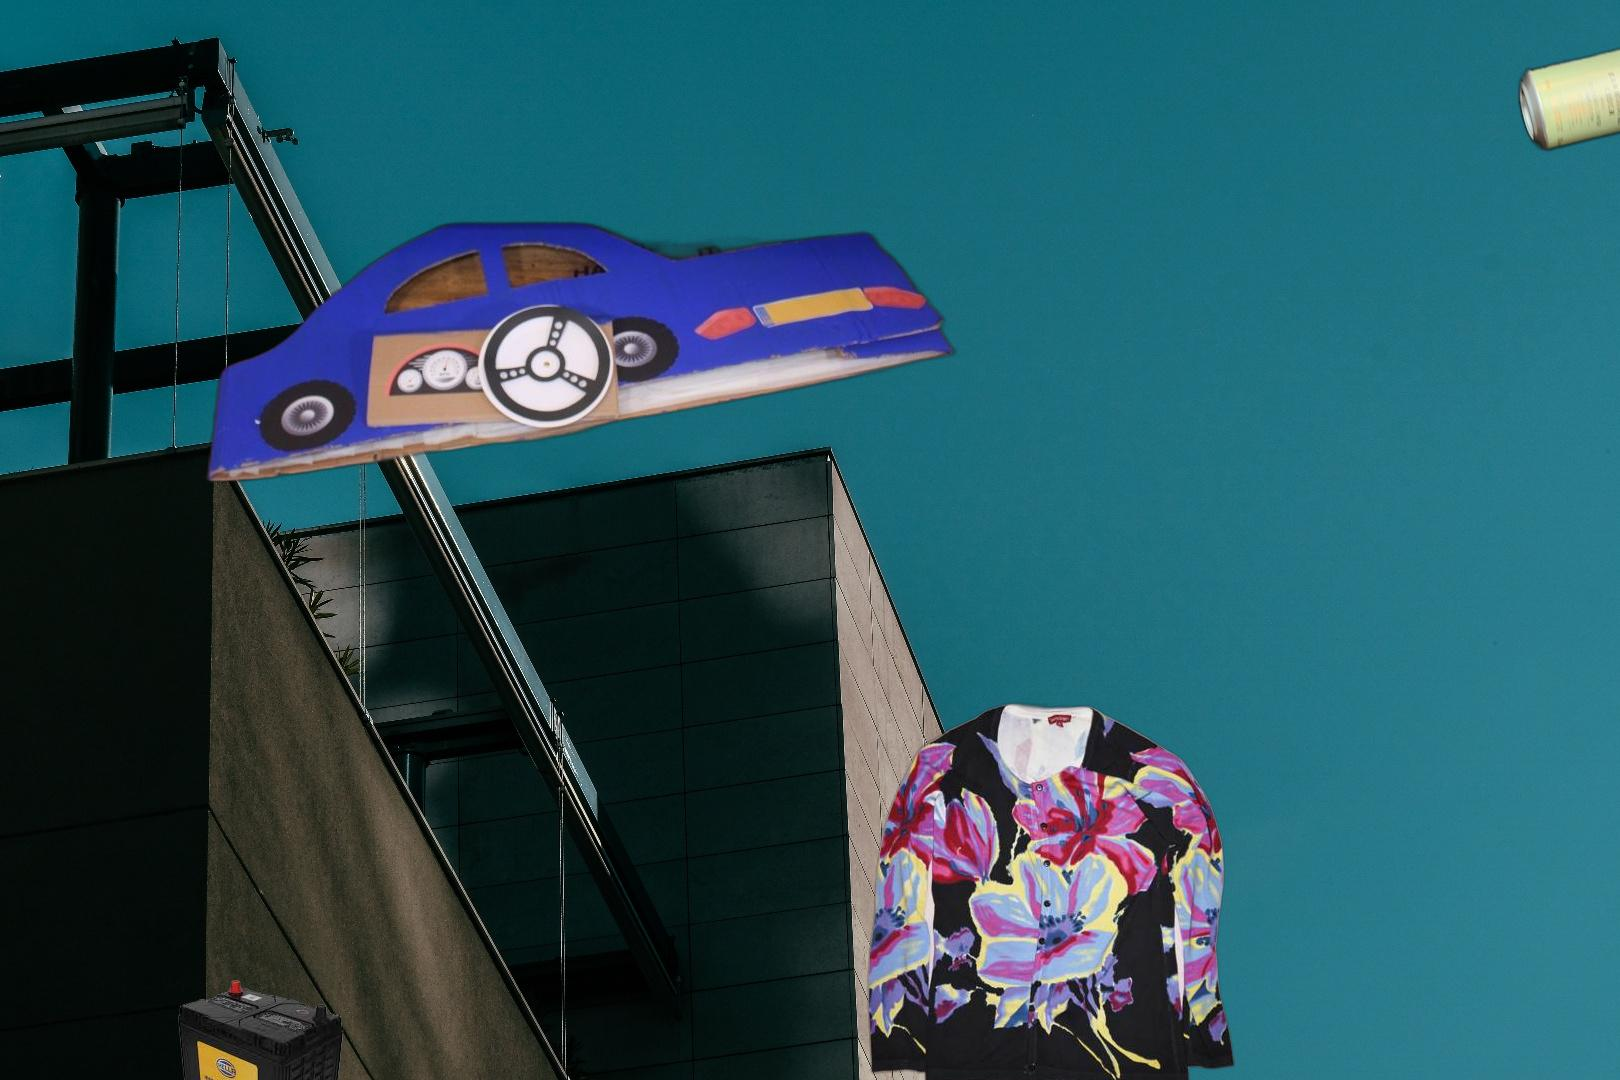battery: (175, 977, 346, 1080)
clothes: (864, 698, 1236, 1080)
metal-cans: (1515, 40, 1620, 156)
trashbox-cardboard: (199, 218, 961, 487)
